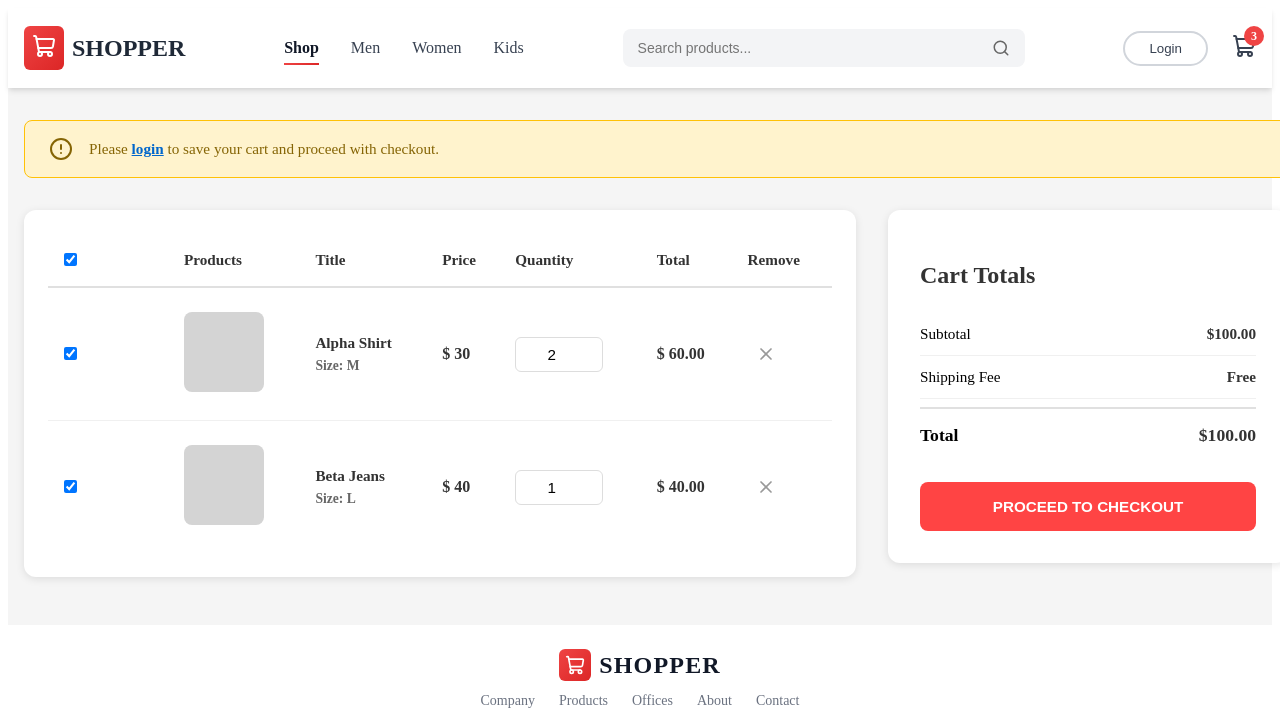
Scenario: Cart checkbox selection for checkout › keeps Select All visual state in sync when an individual item is unselected
The image size is (1280, 720).
Expected: the checkbox named "select all" is checked, [64,253,77,266]
Click the checkbox named "Select Alpha Shirt". click: (70, 354)
box: [64,347,77,360]
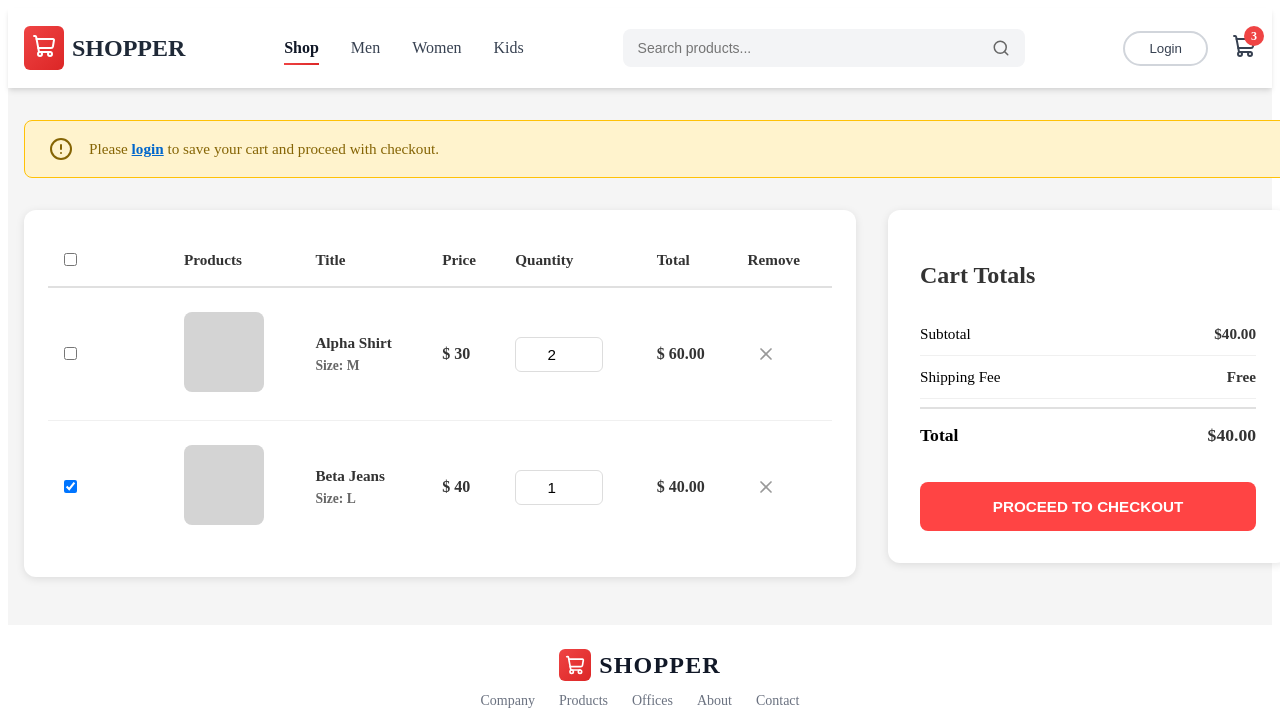
Now the checkbox named "select all" is not checked, box [64,253,77,266]
